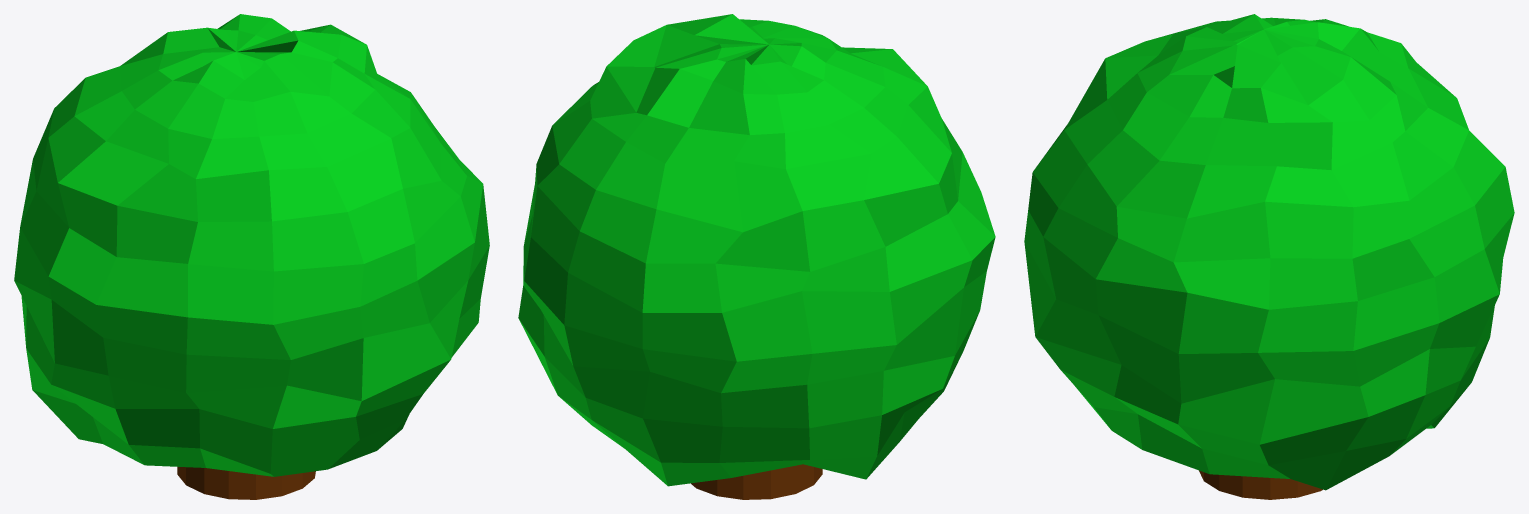
Rendered from Bush.fbx.
The picture shows the model from 3 angles, left to right: view 1: azimuth 30°, elevation 25°; view 2: azimuth 150°, elevation 25°; view 3: azimuth 270°, elevation 25°; orthographic projection. The views are drawn at different scales.
Parts seen in each view (by area): view 1: Bush; view 2: Bush; view 3: Bush.
Boxes of the visible parts, x1,y1,x2,y2 form: Bush: [14, 14, 489, 499]; Bush: [518, 14, 995, 499]; Bush: [1024, 14, 1514, 499].
Bounding box in the file's own units: 207 × 204 × 205.
